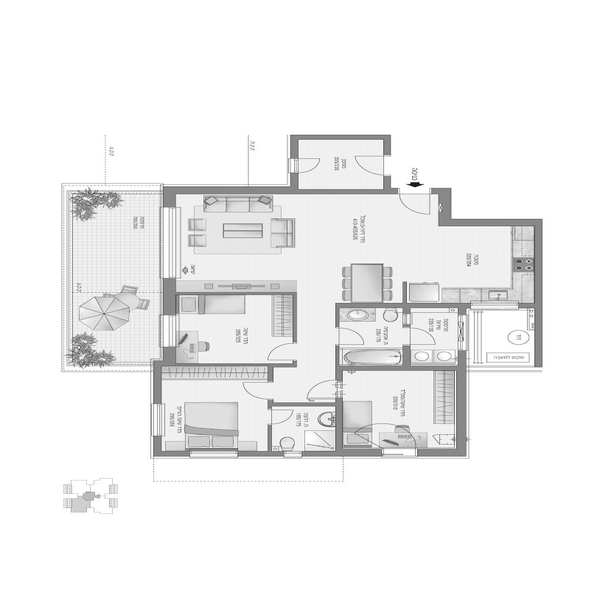door: (397, 187, 435, 227), (406, 316, 439, 350), (266, 337, 301, 364), (336, 323, 370, 350), (354, 150, 395, 172), (240, 375, 269, 404), (268, 401, 293, 433), (291, 154, 320, 177), (308, 375, 329, 404)
room: (293, 187, 547, 313), (147, 356, 345, 454), (157, 184, 298, 286), (333, 362, 475, 462), (157, 279, 304, 371), (328, 299, 467, 375), (285, 126, 391, 195), (469, 296, 546, 370)
wall: (165, 182, 397, 198), (153, 351, 303, 371), (530, 214, 548, 371), (441, 214, 547, 237), (451, 349, 472, 460), (327, 362, 467, 376), (334, 302, 470, 314), (290, 134, 397, 149), (260, 395, 344, 414), (177, 291, 297, 301), (300, 446, 386, 459), (159, 277, 185, 315), (287, 289, 305, 343), (435, 181, 455, 227), (414, 444, 459, 463), (147, 355, 165, 402), (333, 401, 347, 449), (240, 446, 284, 461), (157, 447, 192, 458), (151, 434, 163, 459)
window: (164, 198, 179, 280), (470, 293, 520, 312), (157, 312, 179, 349), (147, 402, 166, 436), (191, 444, 237, 457), (456, 312, 470, 350)
